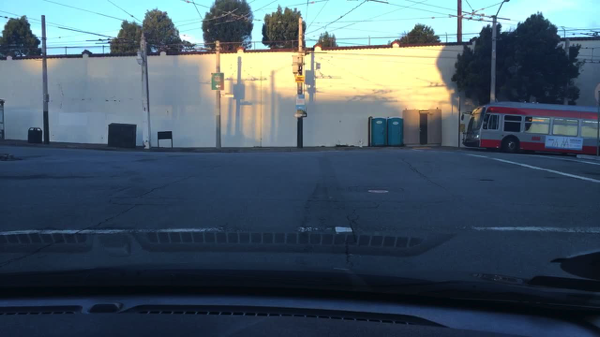bus: (462, 101, 599, 158)
traffic sign: (210, 74, 222, 92), (297, 95, 304, 107), (222, 93, 235, 97), (293, 113, 306, 116), (294, 78, 304, 81)
